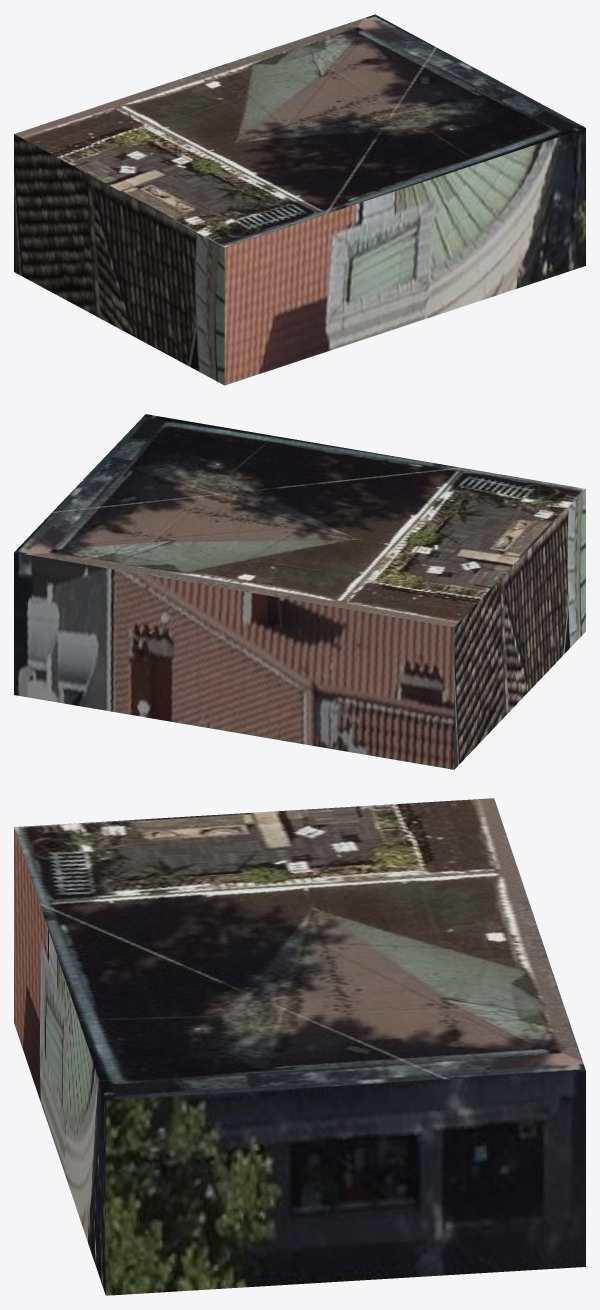
3 renders of one model, top to bottom at view 1: azimuth 30°, elevation 25°; view 2: azimuth 150°, elevation 25°; view 3: azimuth 270°, elevation 25°, orthographic. The views are drawn at different scales.
Parts seen in each view (by area): view 1: Z_UP; view 2: Z_UP; view 3: Z_UP.
Part boxes in pixels (x1,y1,x2,y2): Z_UP: (14,14,585,385); Z_UP: (14,414,585,769); Z_UP: (14,798,585,1295).
Bounding box in the file's own units: 14.44 × 4.37 × 11.57.
Materials: 2 (1 with a texture image).
